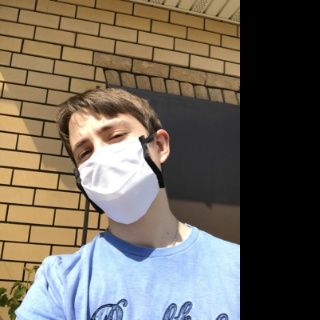with_mask: (68, 119, 169, 224)
